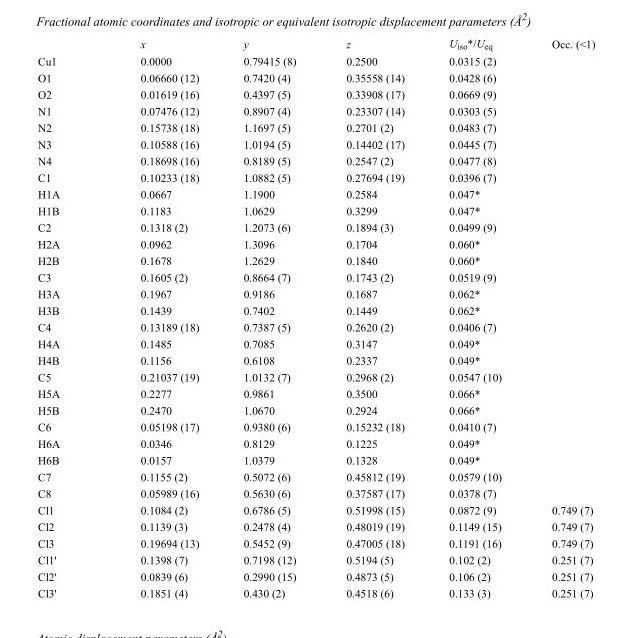table: (37, 36, 594, 598)
table column: (99, 36, 220, 598), (320, 36, 426, 598), (220, 36, 320, 598), (426, 36, 526, 598), (526, 36, 594, 598), (37, 36, 99, 598)
table column header: (37, 36, 594, 52)
table row: (37, 52, 594, 69), (37, 85, 594, 102), (37, 118, 594, 135), (37, 135, 594, 152), (37, 168, 594, 185), (37, 185, 594, 202), (37, 218, 594, 235), (37, 251, 594, 268), (37, 268, 594, 285), (37, 301, 594, 318), (37, 318, 594, 335), (37, 351, 594, 368), (37, 384, 594, 401), (37, 401, 594, 418), (37, 434, 594, 451), (37, 451, 594, 468), (37, 484, 594, 501), (37, 517, 594, 534), (37, 534, 594, 551), (37, 567, 594, 584), (37, 36, 594, 52), (37, 69, 594, 85), (37, 102, 594, 118), (37, 152, 594, 168), (37, 202, 594, 218), (37, 235, 594, 251), (37, 285, 594, 301), (37, 335, 594, 351), (37, 368, 594, 384), (37, 418, 594, 434), (37, 468, 594, 484), (37, 501, 594, 517), (37, 551, 594, 567), (37, 584, 594, 598)
